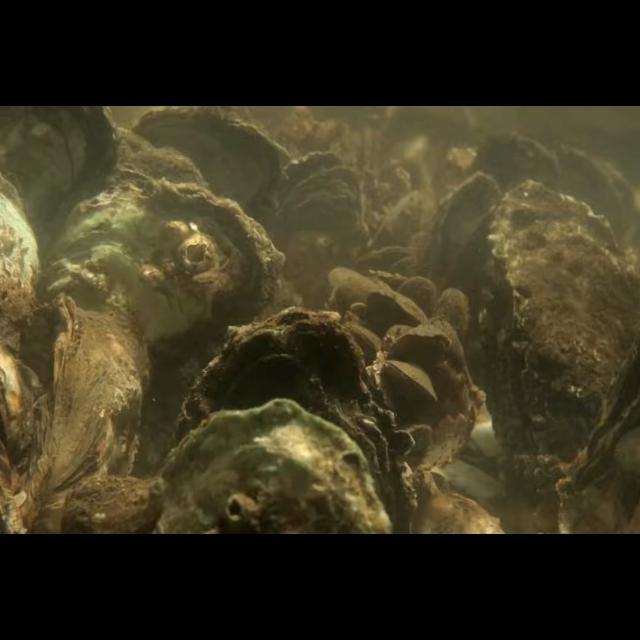Oyster-Closed: (51, 176, 285, 454), (175, 308, 415, 534), (152, 398, 390, 534), (29, 294, 149, 534), (0, 106, 122, 258), (131, 106, 293, 214), (1, 172, 44, 354), (58, 475, 152, 535), (409, 490, 506, 534), (366, 288, 429, 324), (388, 331, 452, 363), (398, 276, 438, 324), (326, 268, 382, 302), (436, 288, 469, 339)
Oyster-Open: (478, 178, 638, 476), (552, 329, 640, 535), (267, 151, 363, 293), (420, 170, 504, 326), (0, 344, 40, 488), (384, 360, 438, 402)
